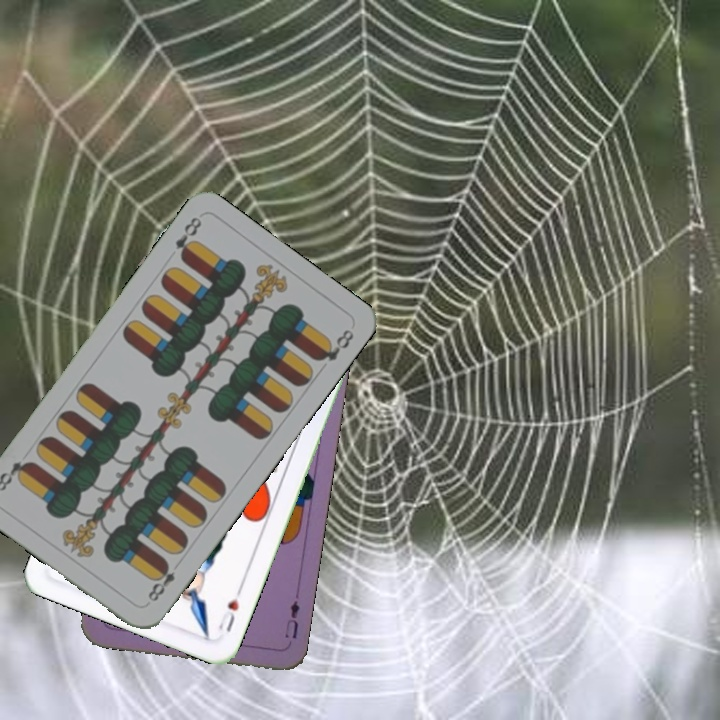E8: (171, 212, 205, 263), (143, 557, 178, 605)
EU: (280, 590, 302, 642)
HU: (214, 583, 245, 635)
